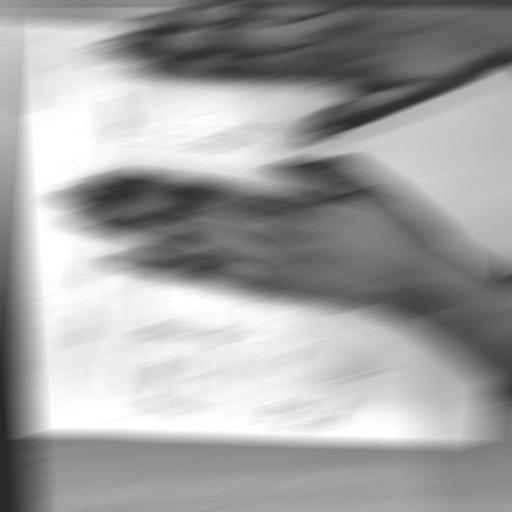bottom_right: (468, 443, 491, 446)
bus: (46, 18, 410, 448)
